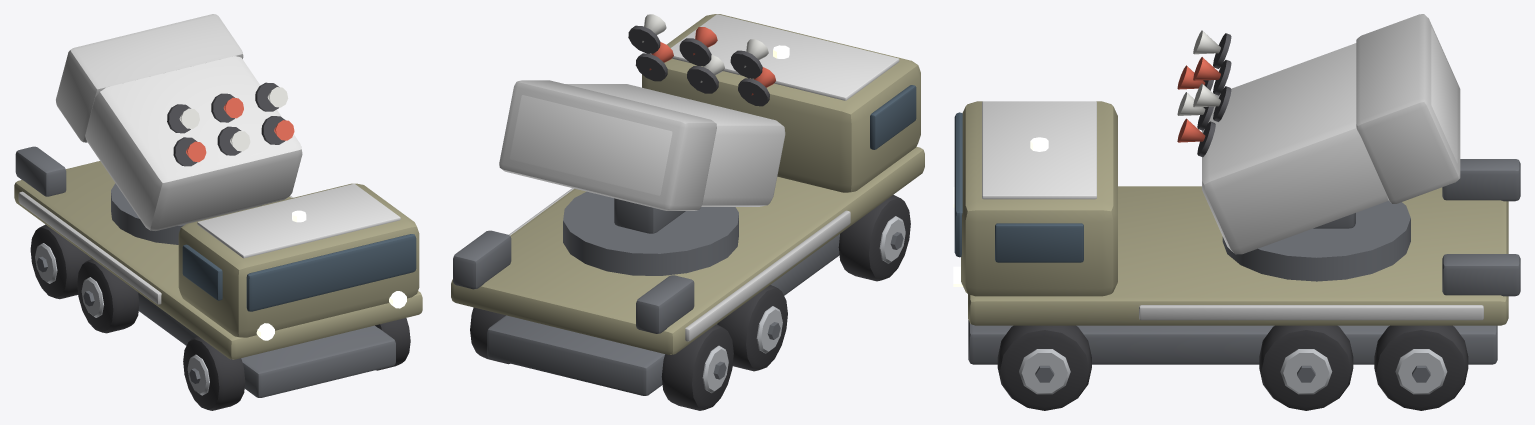
Rendered from missile_launcher.glb.
The picture shows the model from 3 angles, left to right: view 1: azimuth 30°, elevation 25°; view 2: azimuth 150°, elevation 25°; view 3: azimuth 270°, elevation 25°; orthographic projection. The views are drawn at different scales.
Visible parts, largest first — view 1: missile_launcher, turret; view 2: missile_launcher, turret; view 3: missile_launcher, turret.
Part boxes in pixels (x1=…): missile_launcher: x1=14, y1=146, x2=422, y2=410; turret: x1=56, y1=14, x2=302, y2=244; missile_launcher: x1=451, y1=14, x2=924, y2=410; turret: x1=499, y1=14, x2=785, y2=275; missile_launcher: x1=953, y1=101, x2=1520, y2=410; turret: x1=1177, y1=14, x2=1460, y2=281.
Size of the model in its own units: 1.13 by 1.26 by 2.17.
